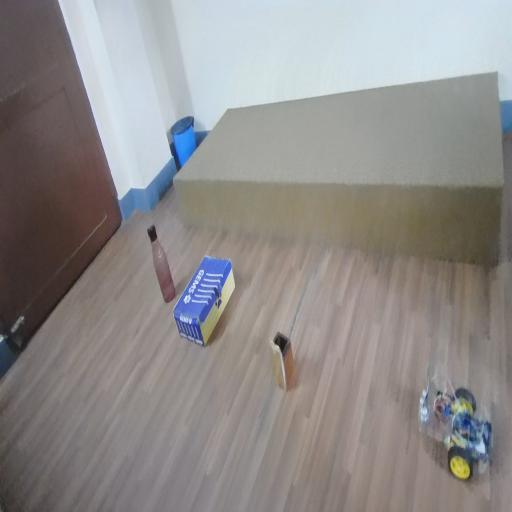Bottle: (144, 217, 180, 309)
